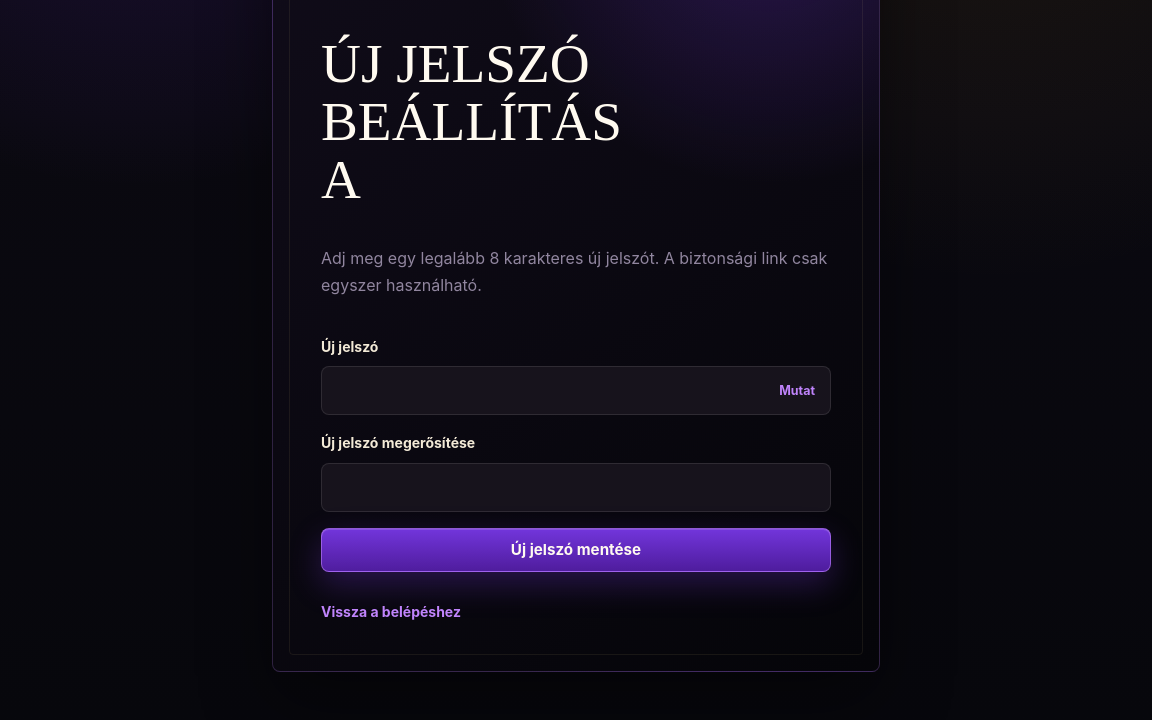
Test case: ResetPasswordPage › billentyűzettel kapcsolja a jelszót és magyarul jelzi a lejárt linket
(page scrolled)
Press Enter in the button with aria-label "Jelszó megjelenítése", box [772,369,822,413]
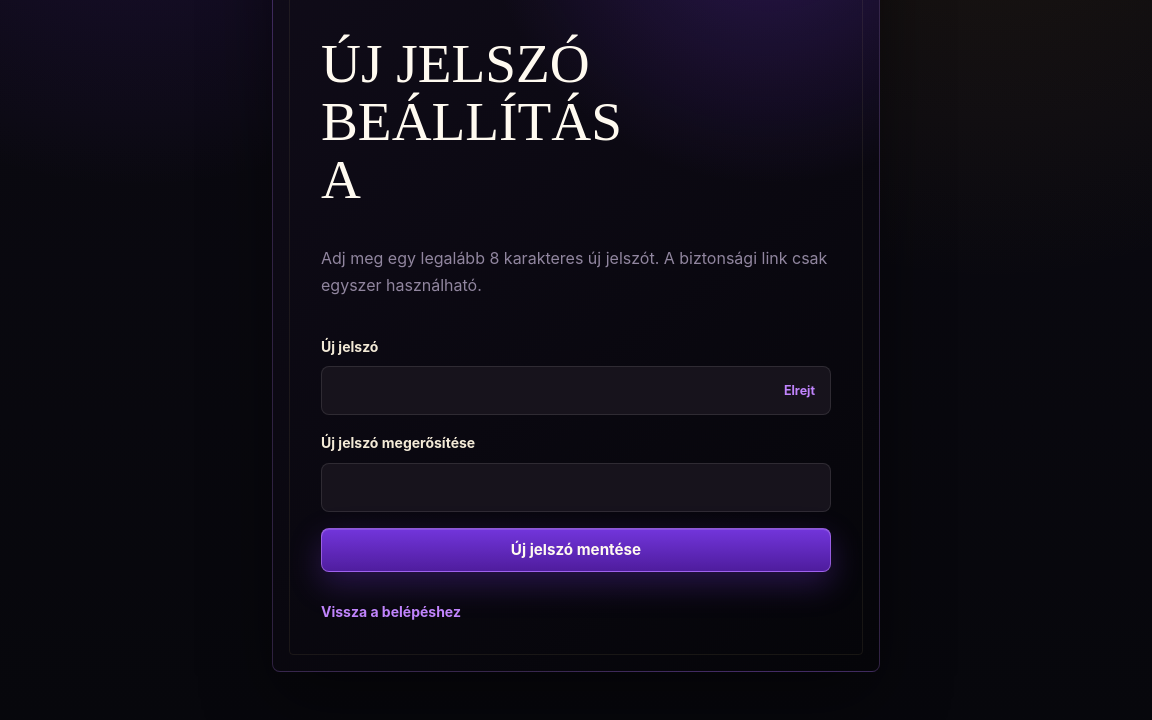
Type "ExpiredPassword123!" into the field labelled "Új jelszó". click: (576, 391)
box: [321,366,831,416]
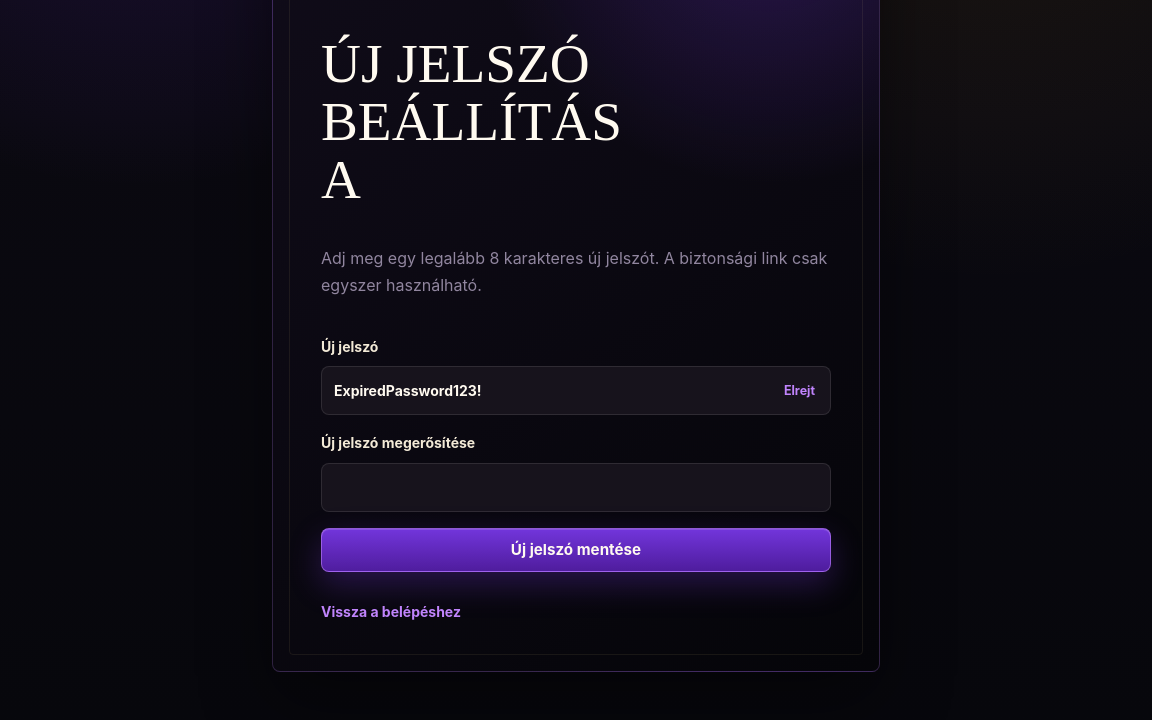
Type "ExpiredPassword123!" into the field labelled "Új jelszó megerősítése". click: (576, 487)
box: [321,462,831,512]
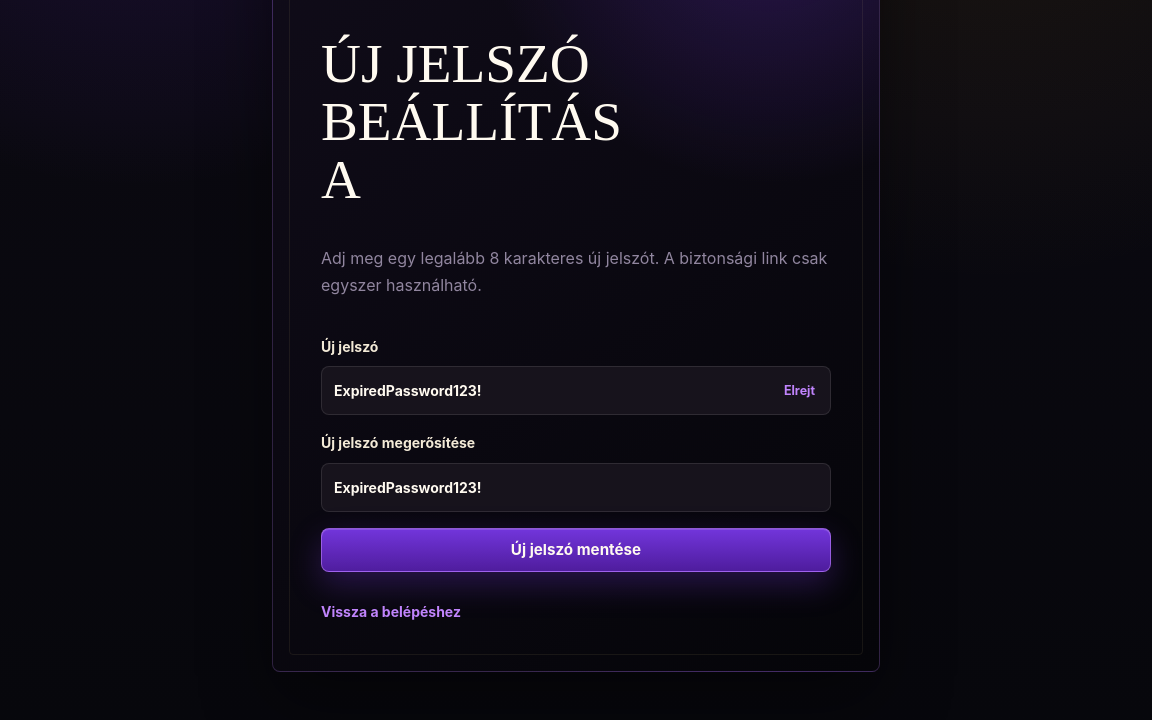
Click the button "Új jelszó mentése". click: (576, 550)
box: [321,528,831,572]
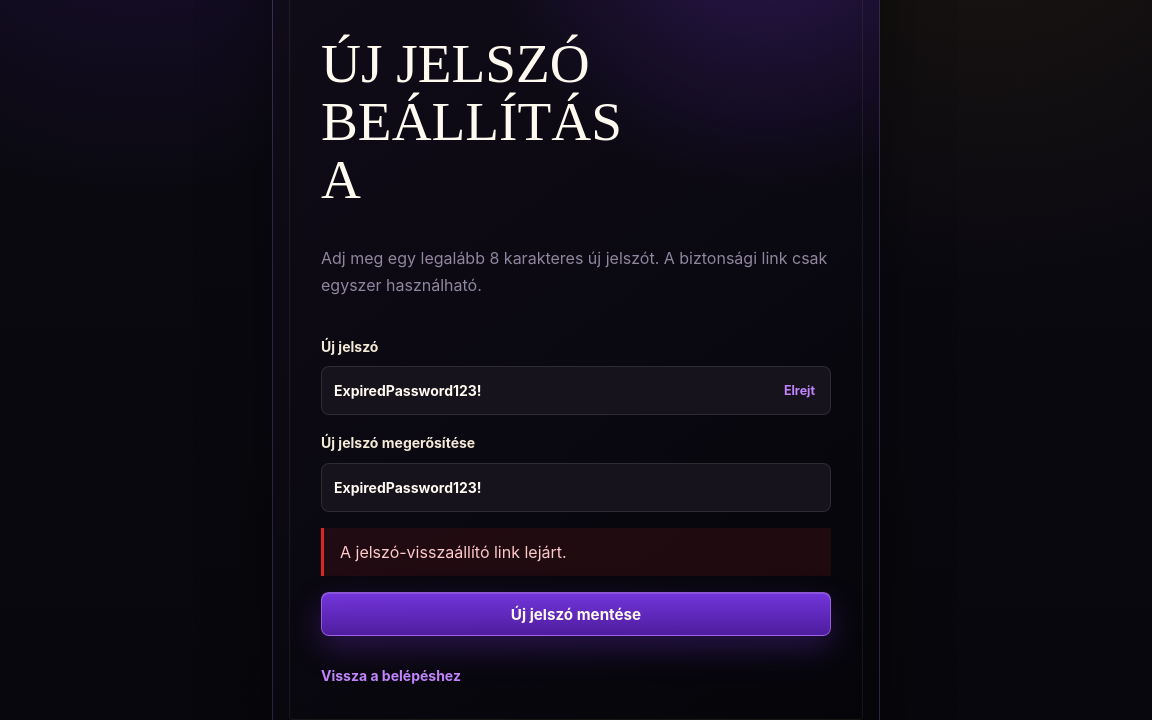
Result: the message reads "A jelszó-visszaállító link lejárt." at [340,542,567,562]
